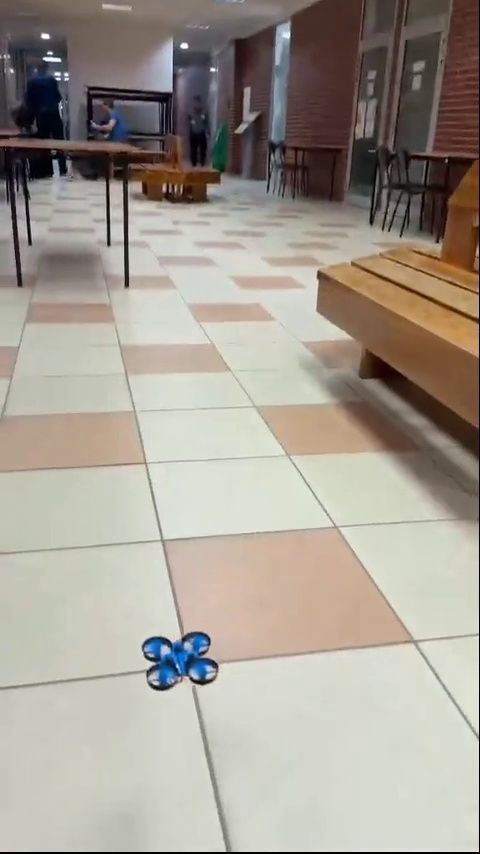drone: (144, 635, 218, 689)
no vest: (18, 57, 74, 141), (179, 90, 210, 168), (89, 97, 134, 150)
